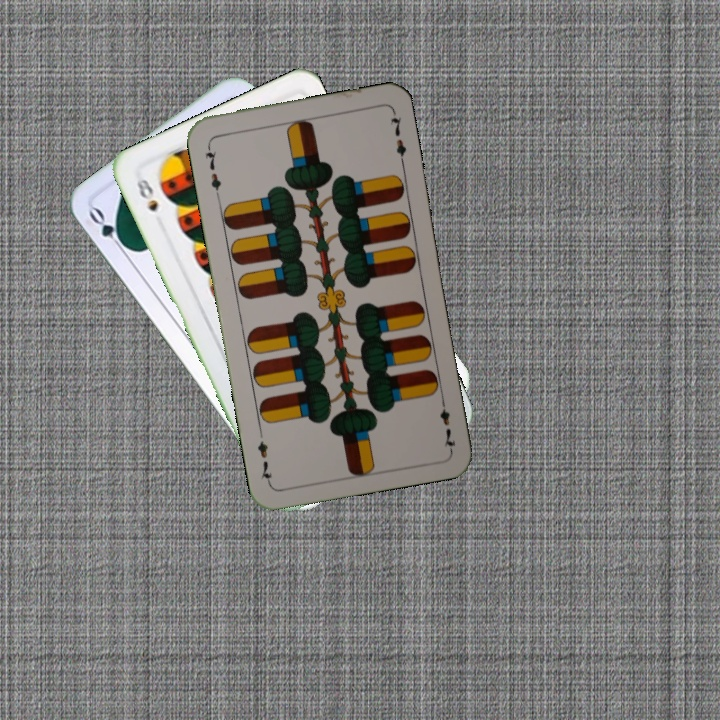E7: (201, 140, 224, 199), (436, 393, 458, 452)
GO: (84, 203, 132, 256)
S8: (132, 174, 161, 215)
